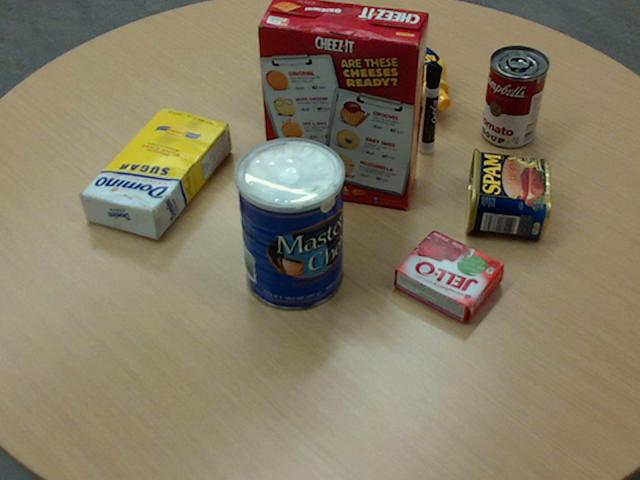cracker_box: (256, 0, 427, 207)
gelatin_box: (394, 229, 505, 322)
large_marker: (418, 62, 441, 153)
master_chef_can: (234, 137, 344, 310)
mug: (259, 35, 335, 127)
mustard_bottle: (335, 12, 450, 110)
potted_meat_can: (464, 147, 549, 237)
sugar_box: (78, 106, 229, 239)
tomato_soup_can: (481, 45, 548, 147)
tuna_fish_can: (263, 23, 326, 78)
